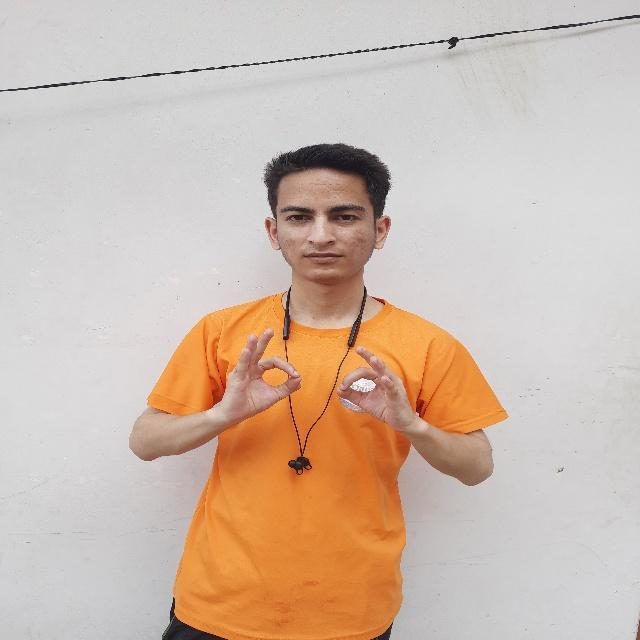Okay: (212, 325, 308, 428), (328, 339, 420, 442)
